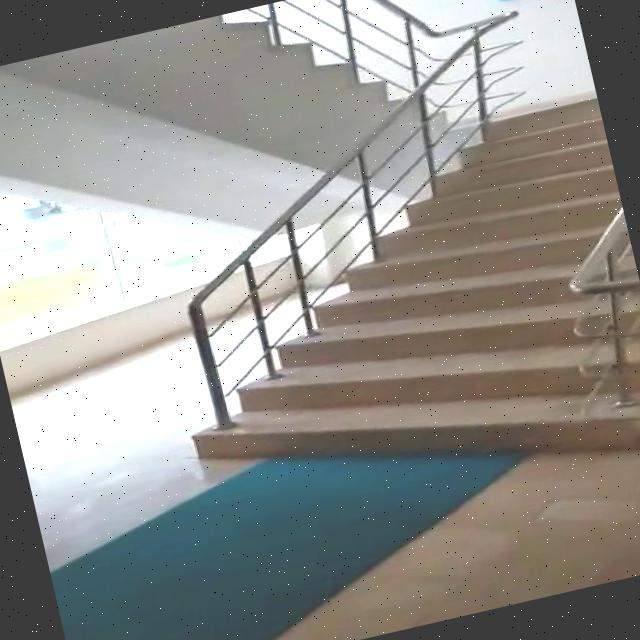stairs: (134, 94, 640, 544)
